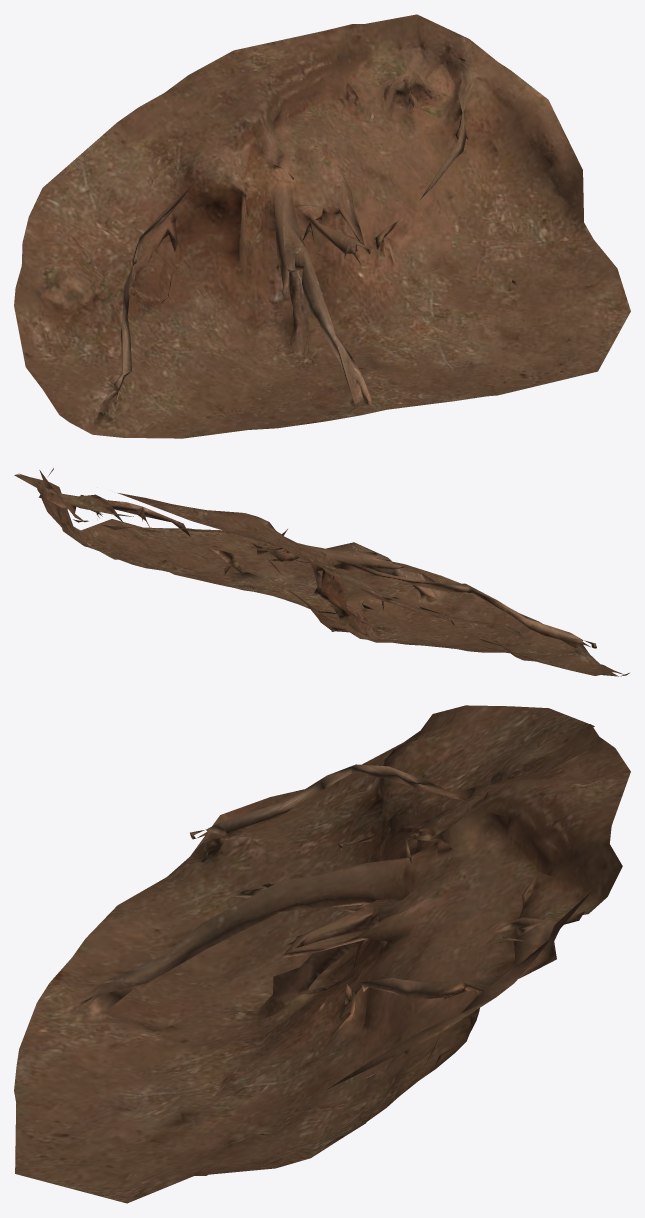
3 views of the same model, one above another, from view 1: azimuth 30°, elevation 25°; view 2: azimuth 150°, elevation 25°; view 3: azimuth 270°, elevation 25° (orthographic). The views are drawn at different scales.
Visible parts, largest first — view 1: root_cluster_01_lod1; view 2: root_cluster_01_lod1; view 3: root_cluster_01_lod1.
Boxes of the visible parts, <box> form: root_cluster_01_lod1: <box>14,14,630,438</box>; root_cluster_01_lod1: <box>14,468,629,676</box>; root_cluster_01_lod1: <box>14,705,630,1203</box>.
Size of the model in its own units: 4.09 by 1.46 by 2.67.
Materials: 1 (1 with a texture image).
